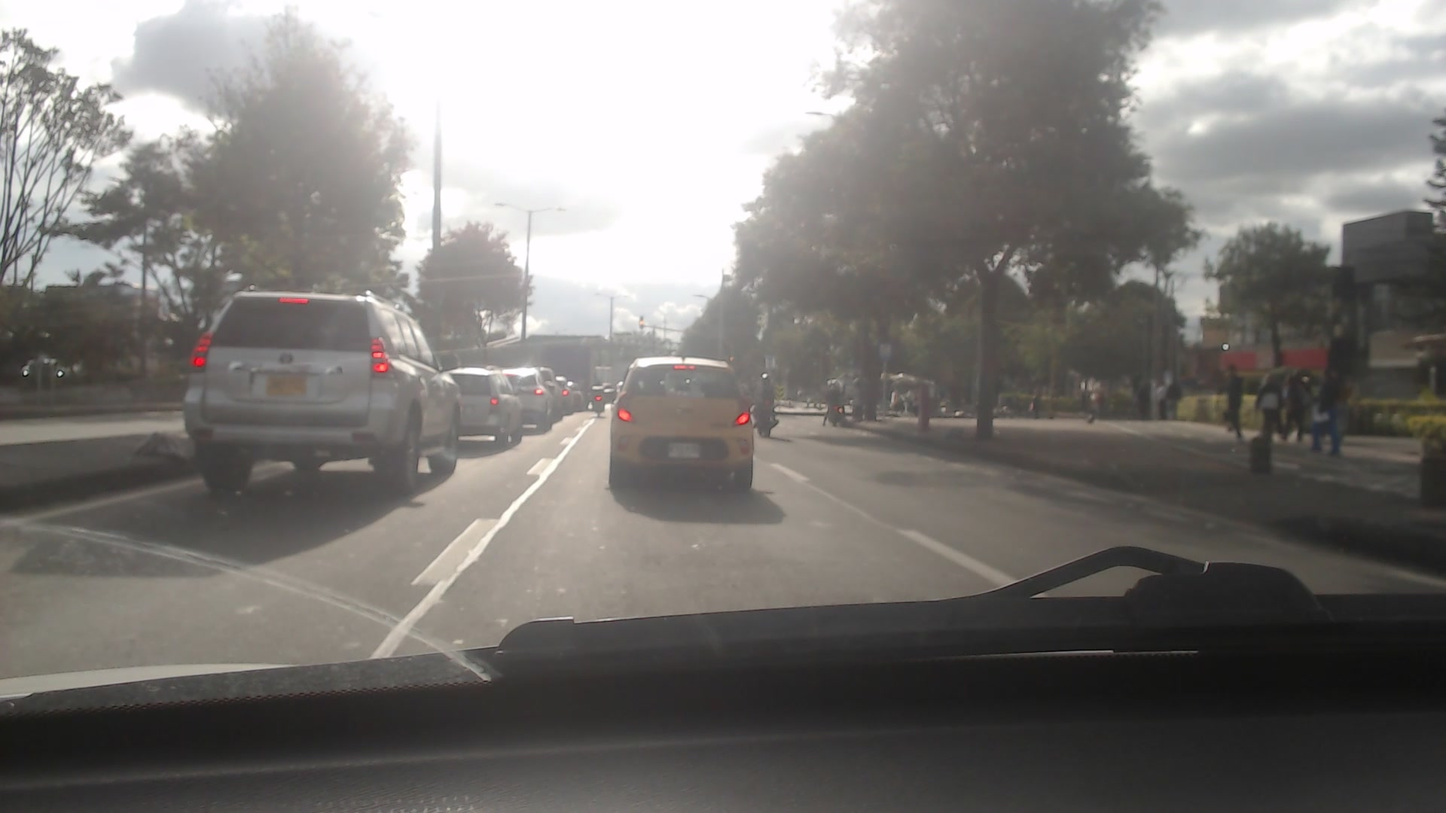car: (184, 284, 470, 488), (602, 357, 756, 499), (439, 364, 519, 452)
person: (1314, 362, 1339, 460), (1222, 365, 1248, 442), (1283, 372, 1306, 438), (1259, 374, 1280, 440)
